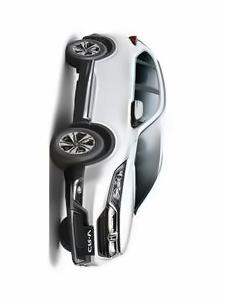Car hood: (118, 136, 140, 258)
Driver-s door - -F-R-: (84, 83, 165, 126)
Fender - -F-R-: (80, 120, 141, 159)
Fender - -R-R-: (98, 37, 141, 56)
Front bumper: (58, 152, 110, 271)
Headlight - -L-: (107, 248, 126, 262)
Headlight - -R-: (106, 157, 130, 212)
Passenger-s door - -R-R-: (86, 55, 164, 83)
Rear bumper: (76, 30, 112, 46)
Rear light - -R-: (127, 32, 141, 48)
Side bumper - -R-: (73, 57, 96, 132)
Side mirror - -R-: (127, 96, 149, 129)
